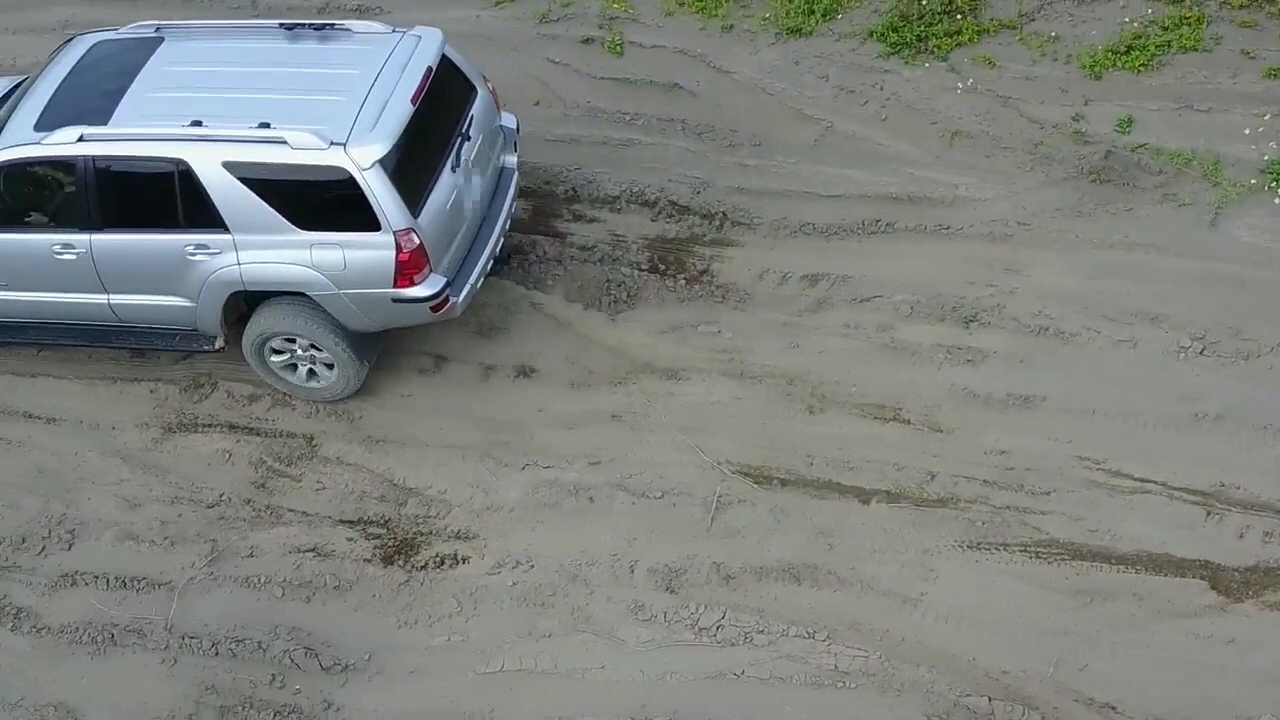araba: (1, 18, 523, 414)
